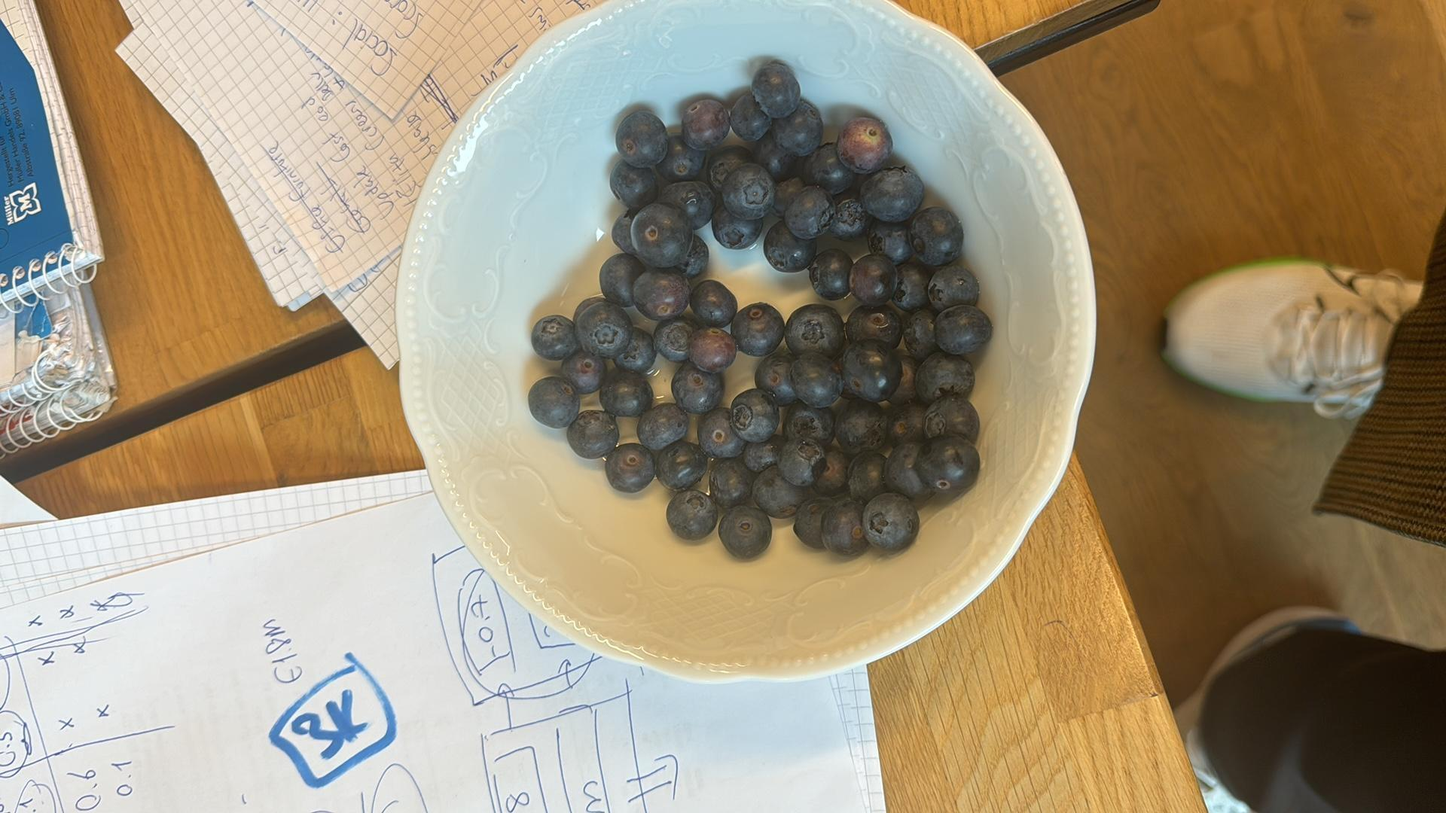blueberry: (918, 437, 990, 497), (842, 341, 901, 404), (633, 208, 690, 267), (862, 492, 919, 550), (786, 306, 847, 360), (614, 113, 672, 166), (524, 376, 581, 428), (863, 168, 921, 219), (747, 60, 797, 118), (724, 167, 777, 221), (637, 270, 690, 323), (667, 487, 717, 541), (911, 217, 962, 269), (763, 220, 812, 274), (917, 352, 977, 396), (721, 504, 769, 559), (596, 367, 649, 416), (791, 356, 837, 411), (885, 442, 929, 499), (822, 504, 869, 556), (708, 453, 754, 505), (674, 361, 720, 413), (838, 398, 883, 451), (734, 385, 777, 440), (845, 304, 904, 344), (848, 256, 897, 304), (605, 160, 656, 206), (758, 352, 797, 412), (528, 312, 580, 357), (735, 306, 781, 356), (787, 188, 828, 244), (925, 397, 981, 438), (582, 304, 627, 355), (936, 308, 990, 350), (711, 208, 763, 251), (807, 140, 853, 188), (696, 404, 741, 453), (773, 100, 816, 151), (574, 407, 617, 458), (754, 469, 795, 522), (603, 446, 654, 488), (606, 323, 654, 367), (659, 439, 703, 487), (690, 325, 736, 370), (814, 450, 853, 503), (599, 255, 642, 303), (848, 451, 892, 497), (788, 402, 832, 448), (837, 120, 880, 167), (660, 183, 717, 217), (868, 215, 910, 261), (932, 266, 977, 308), (657, 317, 703, 358), (684, 101, 723, 149), (641, 401, 680, 448), (810, 255, 850, 298), (891, 403, 929, 448), (781, 443, 826, 481), (694, 280, 731, 326), (888, 262, 926, 305), (663, 132, 698, 178), (802, 498, 830, 552), (564, 353, 604, 390), (830, 193, 867, 232), (728, 98, 763, 136), (744, 438, 780, 474), (710, 152, 745, 189), (905, 315, 937, 355)
